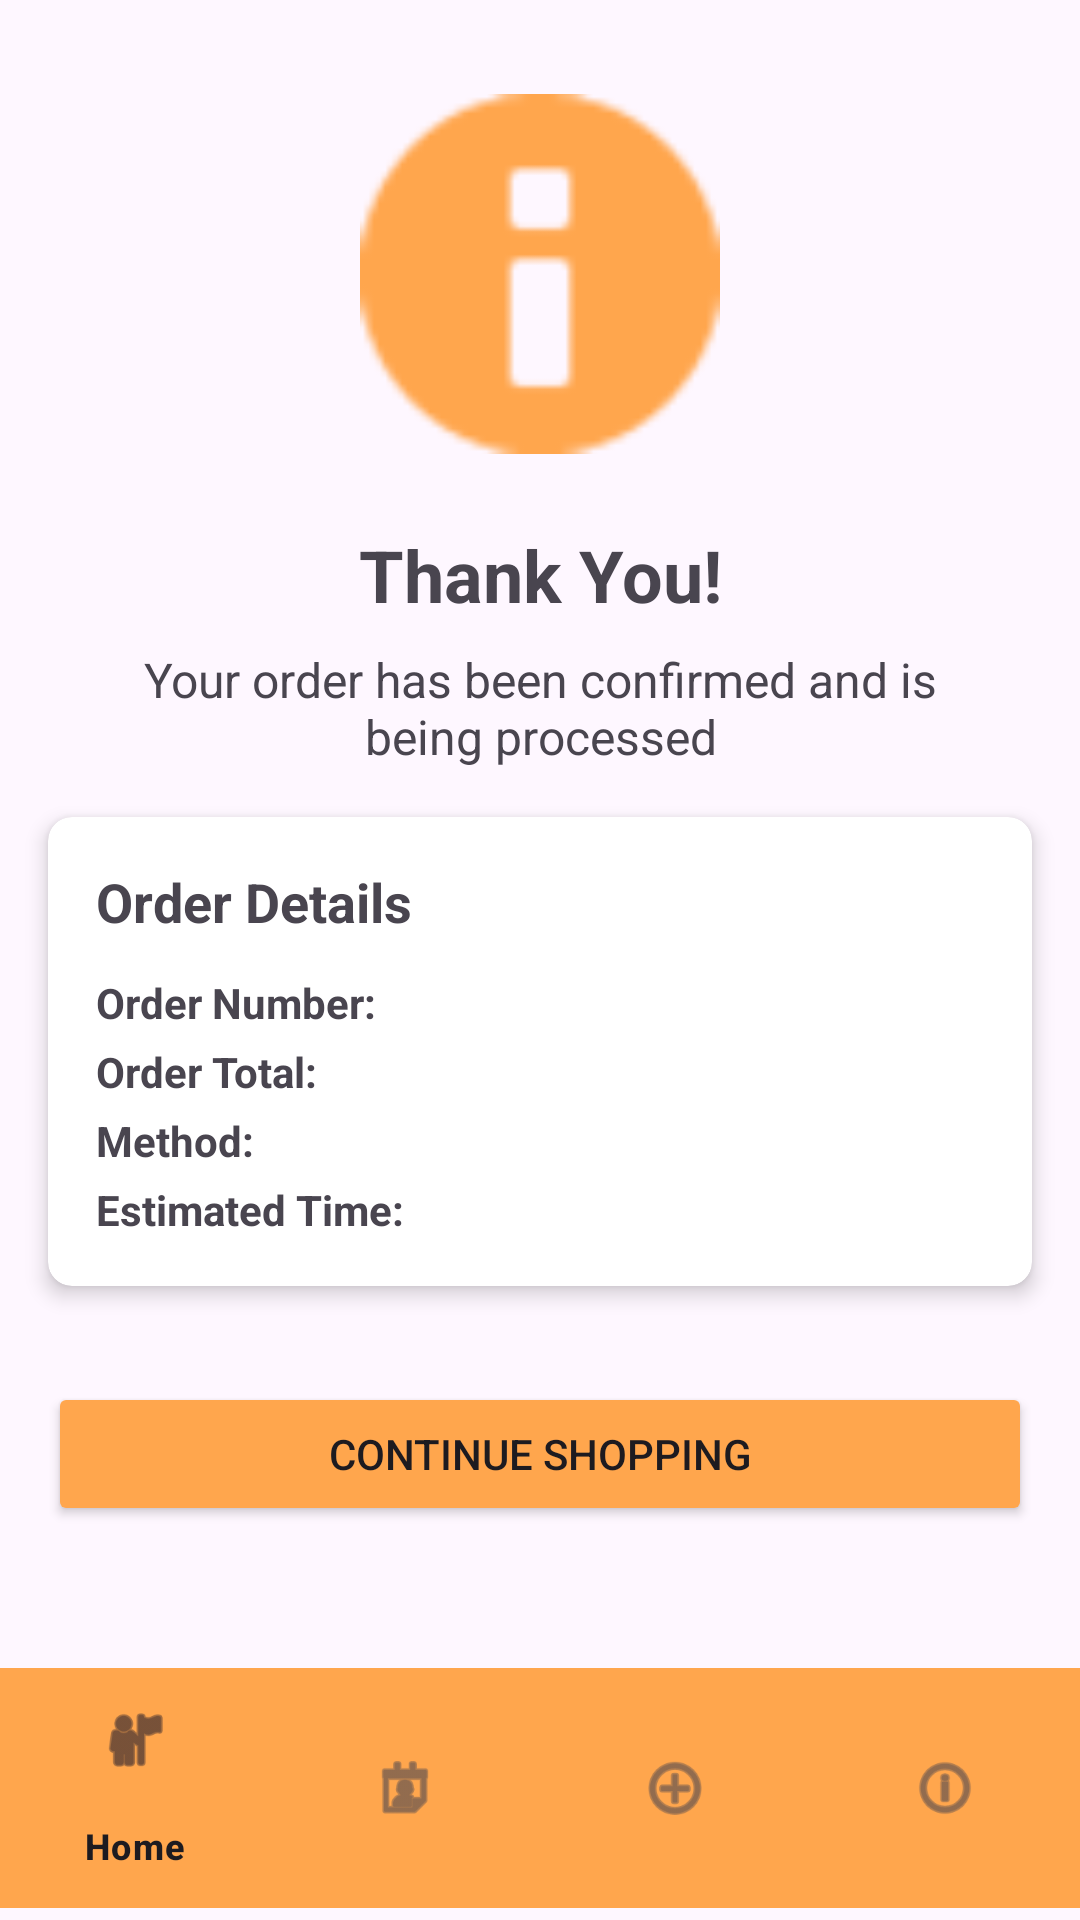

Named icons in this screenshot (1080px×1920px) and their bounding boxes, (x1, y1, x2, y2):
info: (360, 94, 720, 454)
